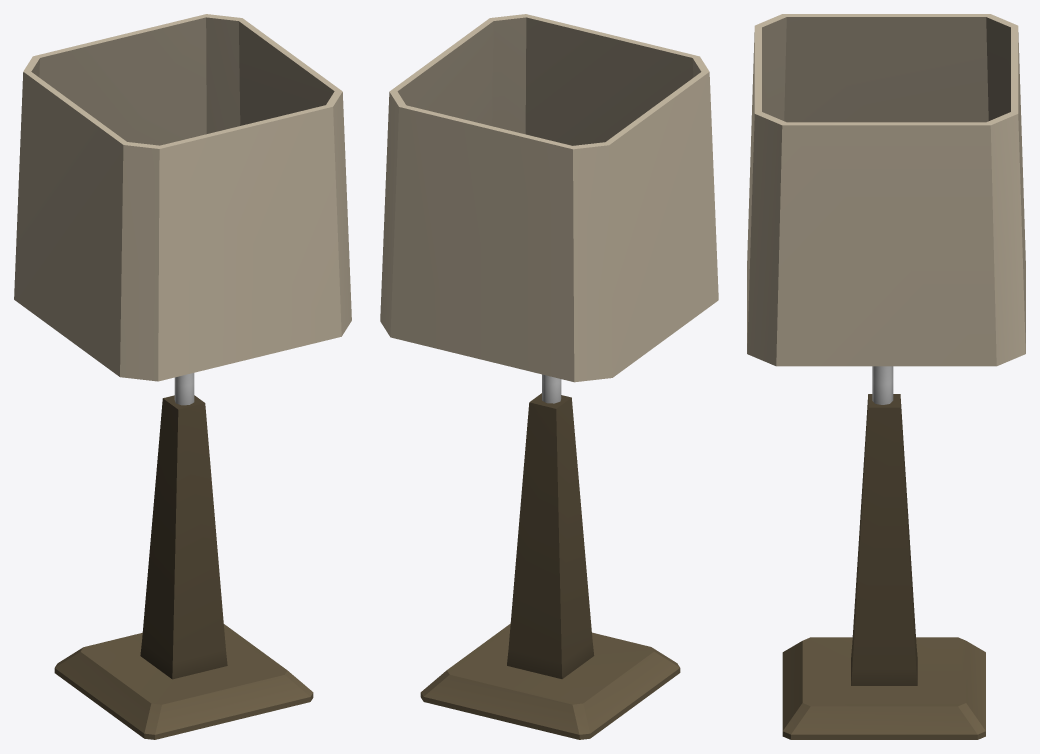
The model's file is tablelamp02.fbx.
3 renders of one model, left to right at view 1: azimuth 30°, elevation 25°; view 2: azimuth 150°, elevation 25°; view 3: azimuth 270°, elevation 25°, orthographic. The views are drawn at different scales.
Visible parts, largest first — view 1: tablelamp02 1; view 2: tablelamp02 1; view 3: tablelamp02 1.
Part boxes in pixels (box(x1,y1,x2,y2)): tablelamp02 1: box(14, 14, 351, 739); tablelamp02 1: box(380, 14, 718, 739); tablelamp02 1: box(747, 14, 1025, 739).
Bounding box in the file's own units: 0.2026 × 0.5033 × 0.2026.
